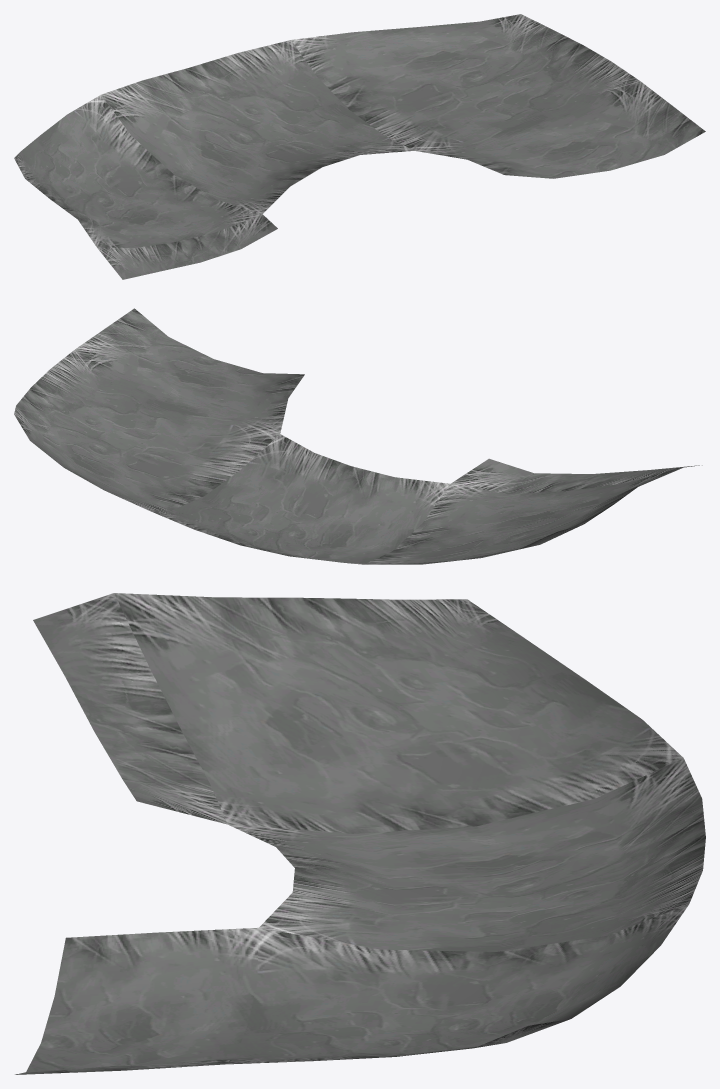
File: SWORDLIGHT20_PS-AREA01_21.fbx
3 views of the same model, one above another, from view 1: azimuth 30°, elevation 25°; view 2: azimuth 150°, elevation 25°; view 3: azimuth 270°, elevation 25° (orthographic). The views are drawn at different scales.
Visible parts, largest first — view 1: SWORDLIGHT20_PS-AREA01_21; view 2: SWORDLIGHT20_PS-AREA01_21; view 3: SWORDLIGHT20_PS-AREA01_21.
Boxes of the visible parts, bbox=[...] form: SWORDLIGHT20_PS-AREA01_21: bbox=[14, 14, 705, 279]; SWORDLIGHT20_PS-AREA01_21: bbox=[14, 308, 702, 564]; SWORDLIGHT20_PS-AREA01_21: bbox=[15, 593, 705, 1074].
Size of the model in its own units: 180414 by 17877 by 110906.
Materials: 3 (3 with a texture image).
